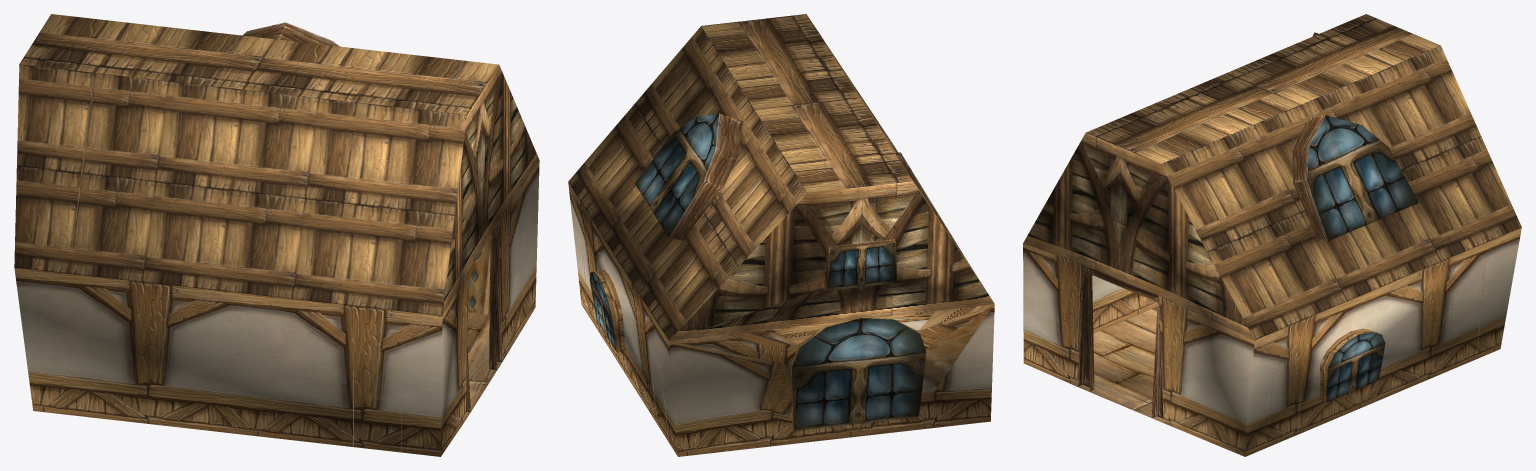
File: stormwind_253.fbx
The picture shows the model from 3 angles, left to right: view 1: azimuth 30°, elevation 25°; view 2: azimuth 150°, elevation 25°; view 3: azimuth 270°, elevation 25°; orthographic projection. The views are drawn at different scales.
Parts seen in each view (by area): view 1: stormwind_253_55, stormwind_253_48, stormwind_253_49, stormwind_253_53, stormwind_253_51; view 2: stormwind_253_55, stormwind_253_48, stormwind_253_49, stormwind_253_84, stormwind_253_53; view 3: stormwind_253_55, stormwind_253_48, stormwind_253_49, stormwind_253_84, stormwind_253_51, stormwind_253_53.
Part boxes in pixels (left/top/right/bottom): stormwind_253_55: left=14, top=14, right=498, bottom=315; stormwind_253_48: left=14, top=160, right=539, bottom=456; stormwind_253_49: left=442, top=65, right=539, bottom=315; stormwind_253_53: left=71, top=22, right=502, bottom=450; stormwind_253_51: left=465, top=312, right=502, bottom=419; stormwind_253_55: left=568, top=14, right=989, bottom=340; stormwind_253_48: left=568, top=182, right=994, bottom=456; stormwind_253_49: left=669, top=181, right=994, bottom=340; stormwind_253_84: left=590, top=113, right=926, bottom=431; stormwind_253_53: left=578, top=113, right=973, bottom=442; stormwind_253_55: left=1086, top=14, right=1521, bottom=339; stormwind_253_48: left=1023, top=227, right=1521, bottom=456; stormwind_253_49: left=1023, top=133, right=1254, bottom=339; stormwind_253_84: left=1307, top=115, right=1418, bottom=402; stormwind_253_51: left=1078, top=307, right=1163, bottom=422; stormwind_253_53: left=1077, top=32, right=1485, bottom=447.
Size of the model in its own units: 14.89 by 8.49 by 14.91.
